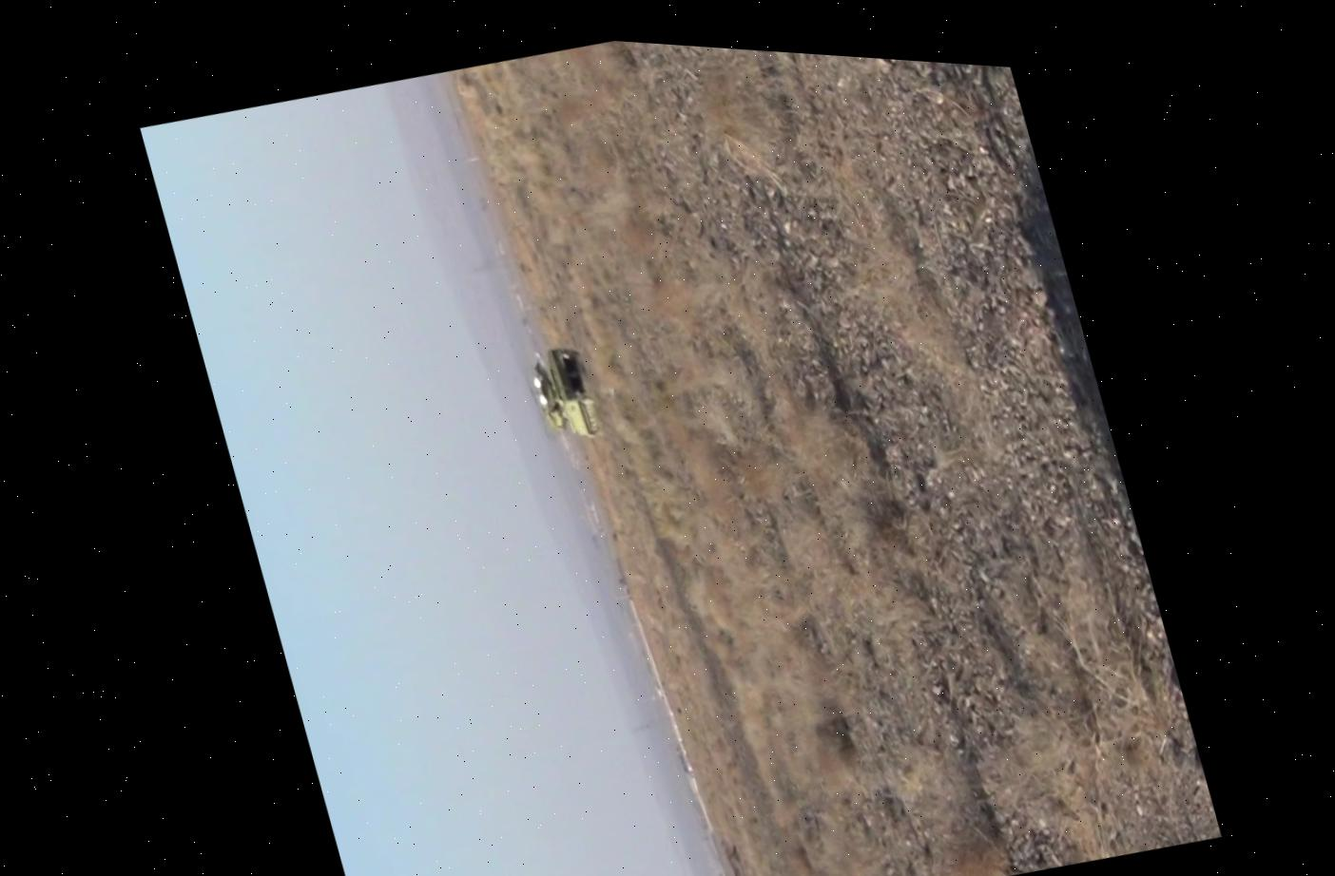armored_car: (522, 339, 606, 448)
